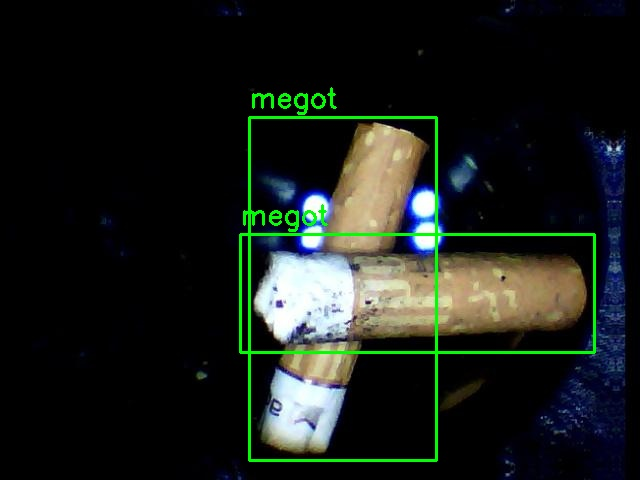megot: (249, 117, 436, 460), (240, 234, 594, 352)
